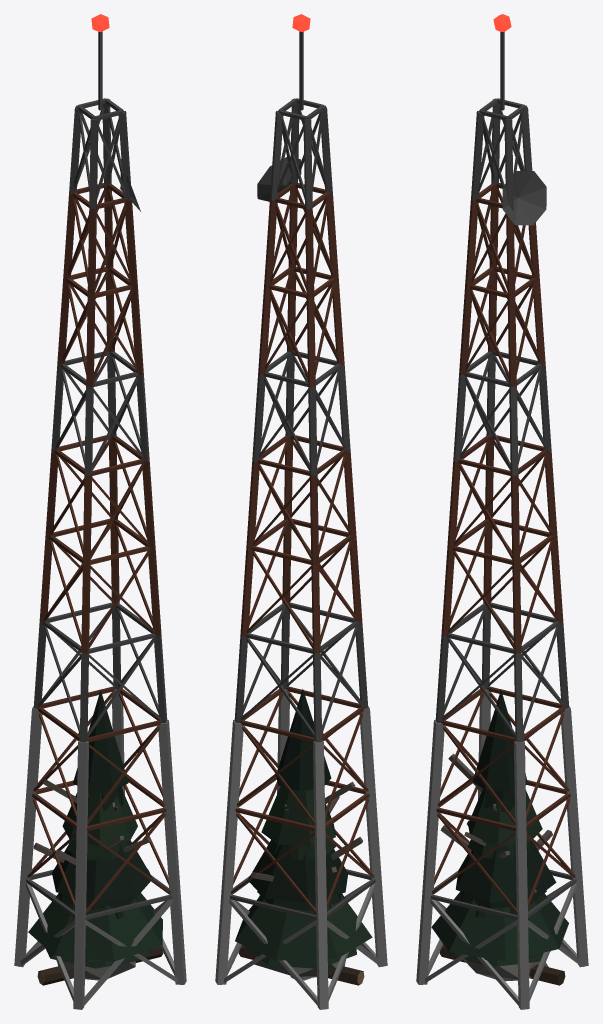
Rendered from scenery.glb.
The picture shows the model from 3 angles, left to right: view 1: azimuth 30°, elevation 25°; view 2: azimuth 150°, elevation 25°; view 3: azimuth 330°, elevation 25°; orthographic projection.
Parts seen in each view (by area): view 1: SCENE_Tower, SCENE_Pine_3, SCENE_Tower_Hull, SCENE_Pine_1, SCENE_Rock_2, SCENE_Log, SCENE_Dead_1; view 2: SCENE_Tower, SCENE_Pine_3, SCENE_Tower_Hull, SCENE_Pine_1, SCENE_Dead_1, SCENE_Log, SCENE_Rock_2, SCENE_Pine_2; view 3: SCENE_Tower, SCENE_Pine_3, SCENE_Tower_Hull, SCENE_Pine_1, SCENE_Rock_2, SCENE_Log, SCENE_Dead_1, SCENE_Pine_0.
Boxes of the visible parts, x1,y1,x2,y2 form: SCENE_Tower: (26, 31, 171, 919); SCENE_Pine_3: (28, 690, 162, 961); SCENE_Tower_Hull: (14, 687, 186, 1009); SCENE_Pine_1: (46, 787, 141, 961); SCENE_Rock_2: (57, 961, 135, 980); SCENE_Log: (37, 946, 163, 985); SCENE_Dead_1: (33, 779, 76, 864); SCENE_Tower: (230, 31, 375, 919); SCENE_Pine_3: (235, 689, 372, 960); SCENE_Tower_Hull: (215, 687, 387, 1009); SCENE_Pine_1: (257, 838, 354, 961); SCENE_Dead_1: (251, 781, 362, 881); SCENE_Log: (238, 945, 364, 985); SCENE_Rock_2: (254, 956, 345, 977); SCENE_Pine_2: (244, 945, 356, 968); SCENE_Tower: (431, 31, 576, 919); SCENE_Pine_3: (431, 689, 568, 961); SCENE_Tower_Hull: (416, 687, 588, 1009); SCENE_Pine_1: (461, 790, 546, 960); SCENE_Rock_2: (463, 959, 548, 981); SCENE_Log: (439, 944, 565, 985); SCENE_Dead_1: (440, 753, 552, 851); SCENE_Pine_0: (452, 897, 543, 966).
Size of the model in its own units: 6.06 by 46.94 by 6.06.
